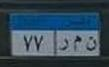7: (32, 33, 43, 52), (22, 34, 31, 52)
meem: (69, 33, 83, 52)
noon: (84, 34, 97, 54)
raa: (59, 37, 68, 52)
